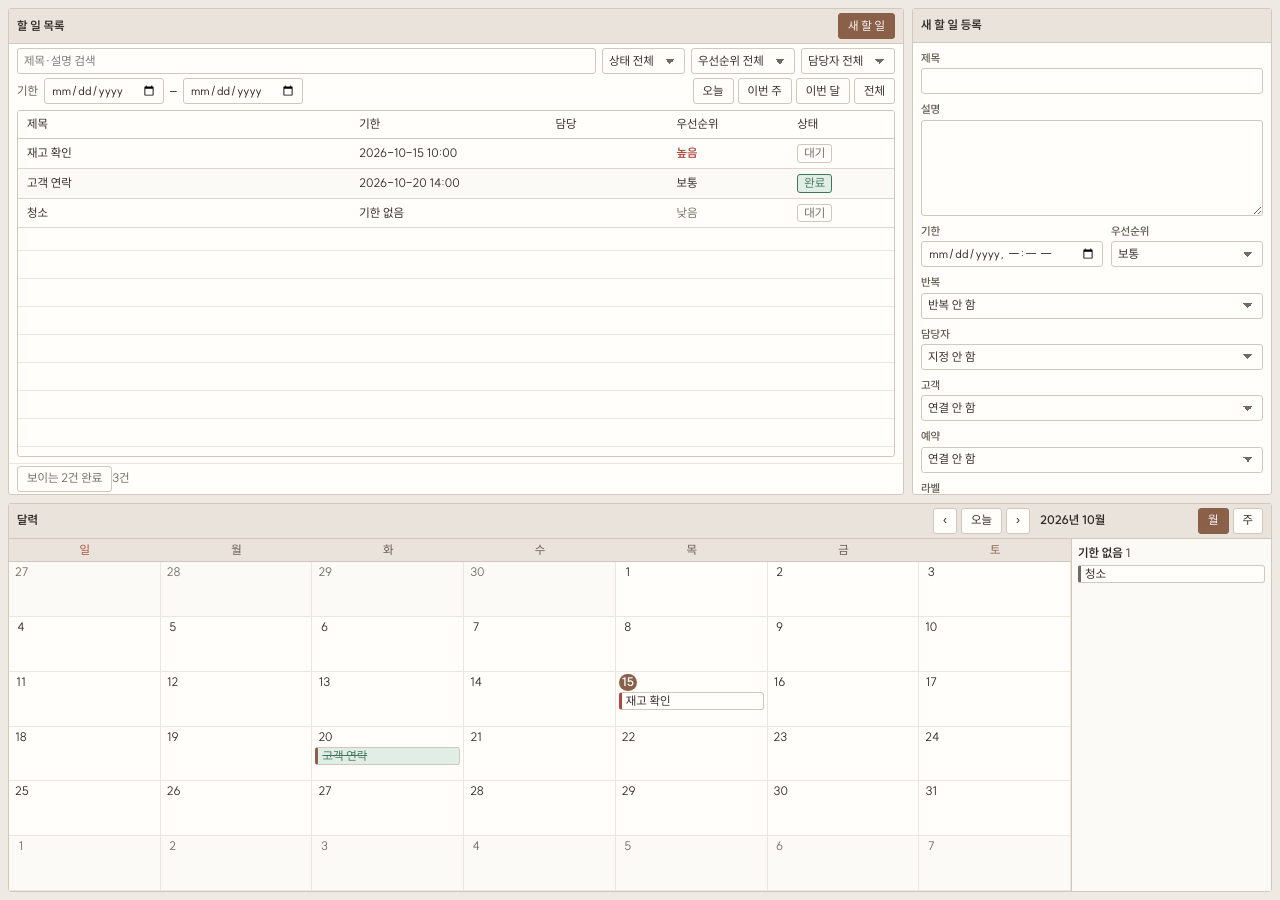
it: TaskPage 목록과 필터 › 기한 날짜·기간·빠른 버튼으로 거른다
This screenshot has width=1280, height=900.
Expected: the text "재고 확인" is shown, [18, 139, 350, 169]
Type "2026-10-20" into the date field named "시작일". click: (104, 91)
box: [44, 78, 164, 104]
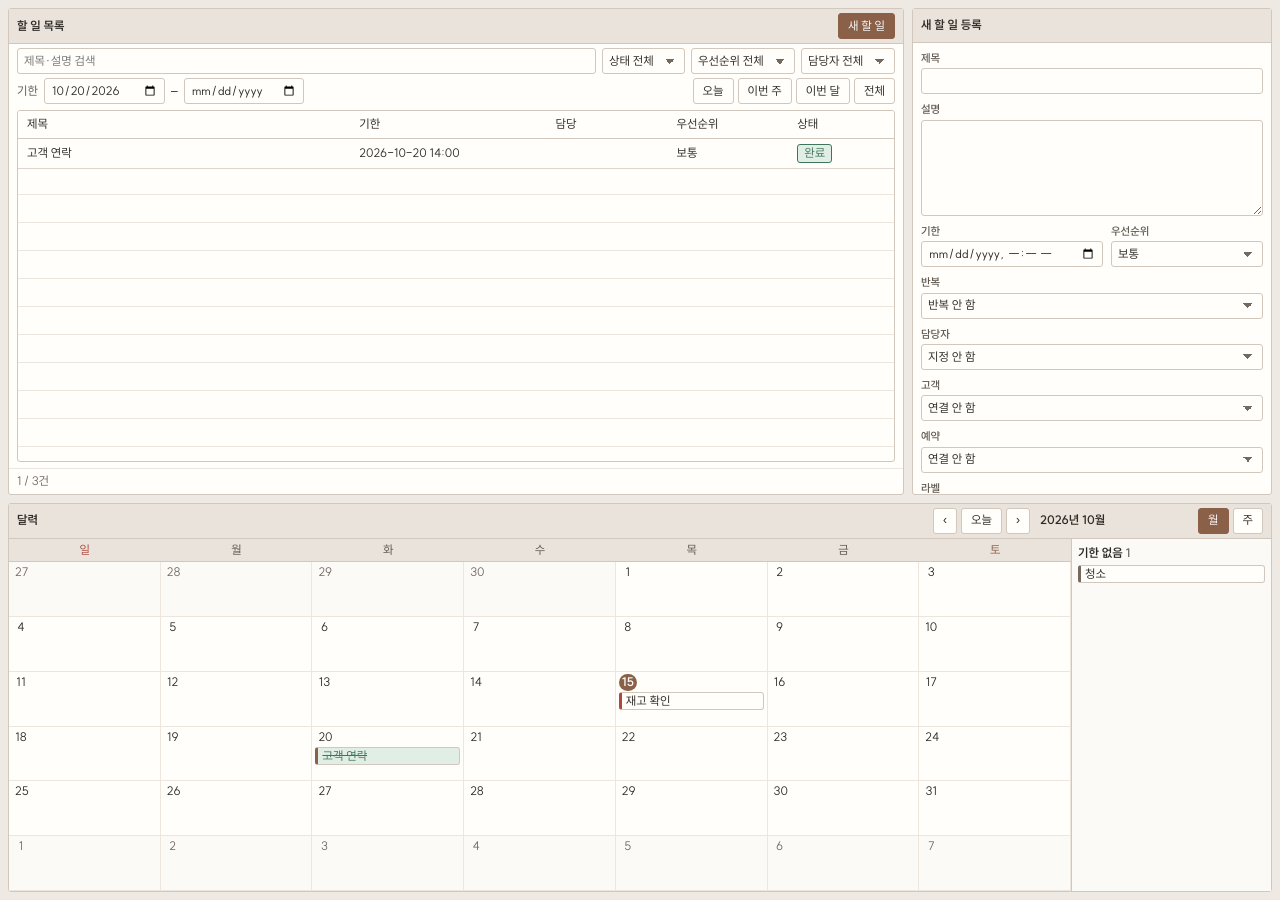
Type "2026-10-20" into the date field named "종료일". click: (244, 91)
box: [184, 78, 304, 104]
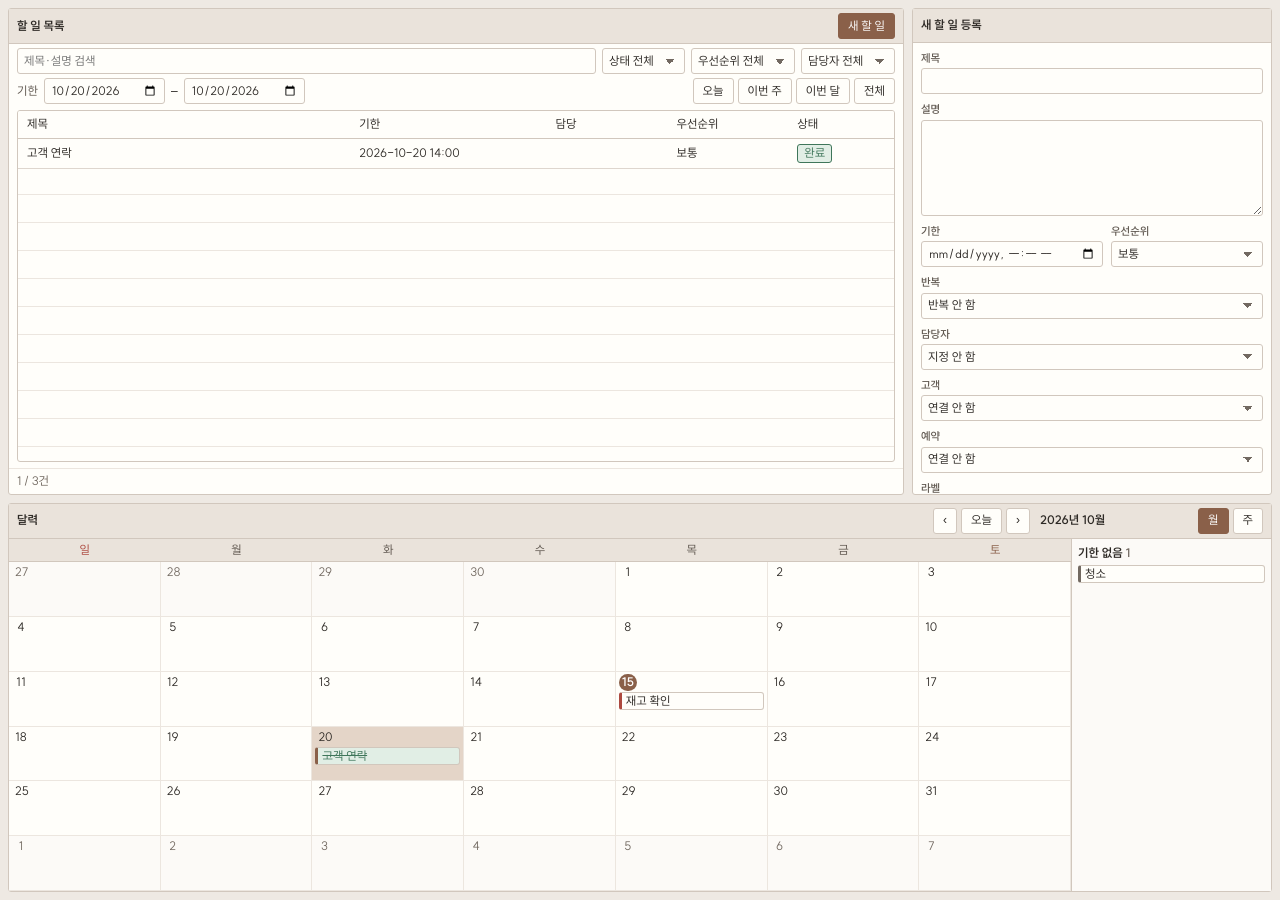
Expected: the text "고객 연락" is shown, [18, 139, 350, 169]
Click the 1st button "오늘". click: (713, 91)
box: [693, 78, 734, 104]
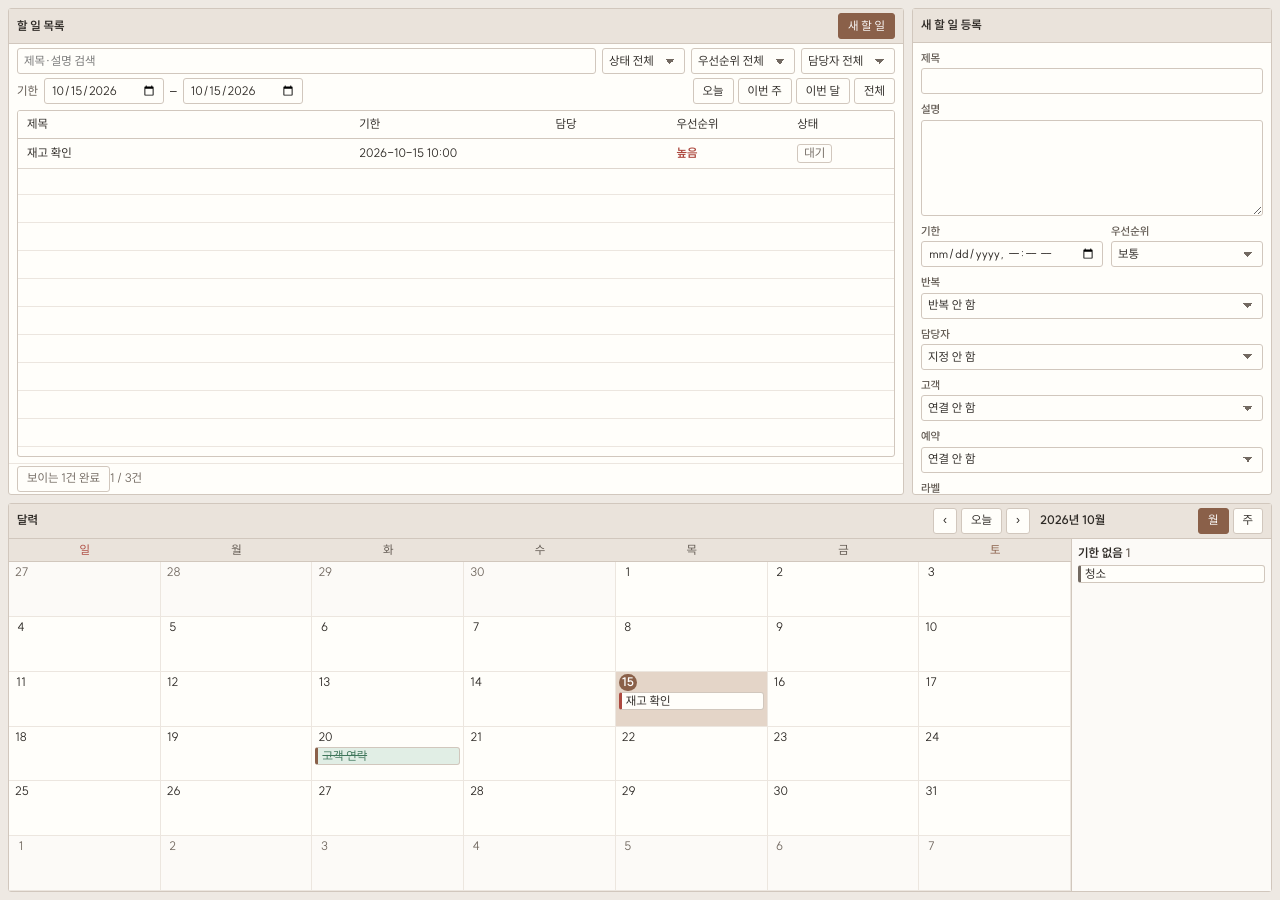
Expected: the date field named "시작일" holds "2026-10-15", [44, 78, 164, 104]
Expected: the text "재고 확인" is shown, [18, 139, 350, 169]
Click the button "이번 달". click: (823, 91)
box: [796, 78, 850, 104]
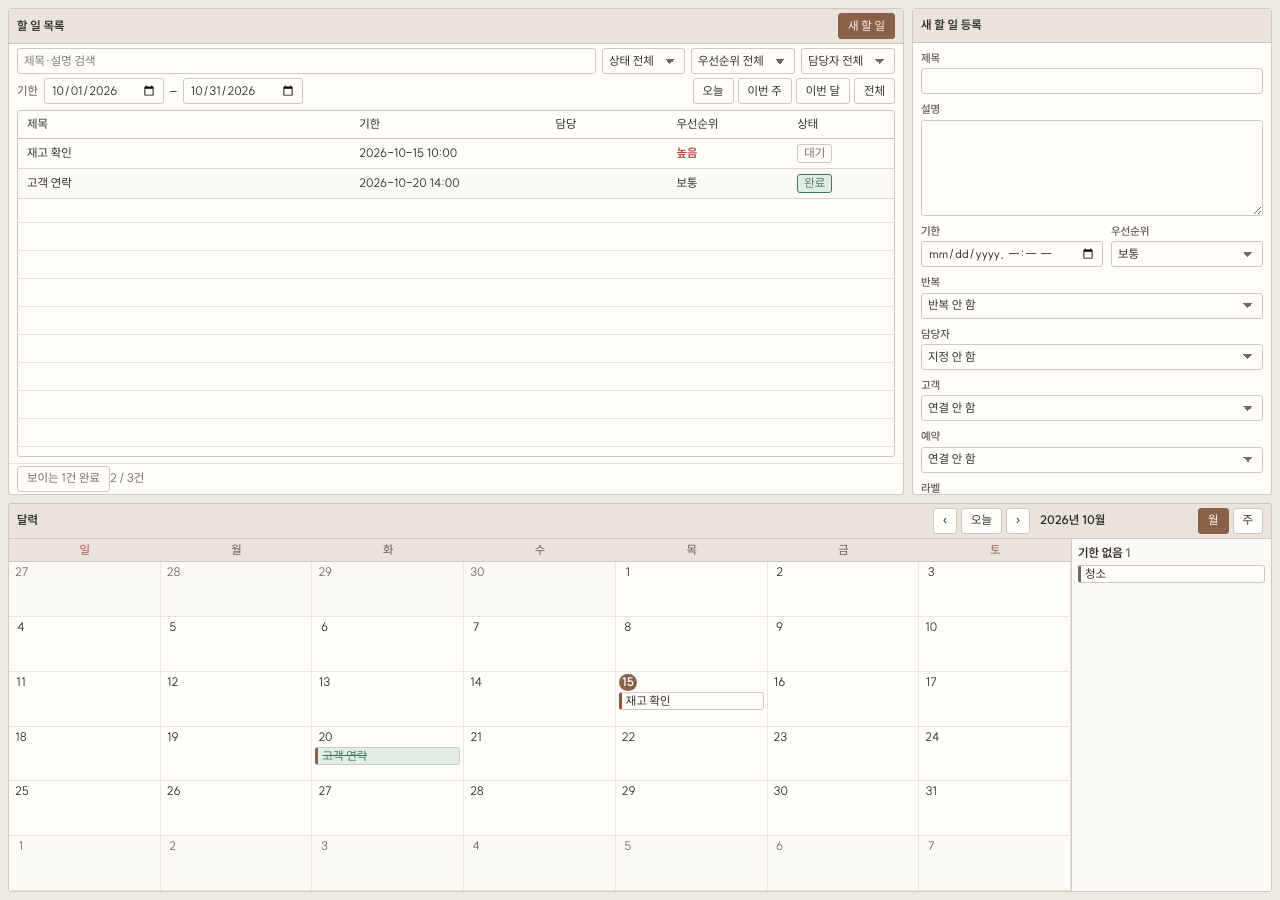
Expected: the text "고객 연락" is shown, [18, 169, 350, 199]
Click the button "전체". click: (874, 91)
box: [854, 78, 895, 104]
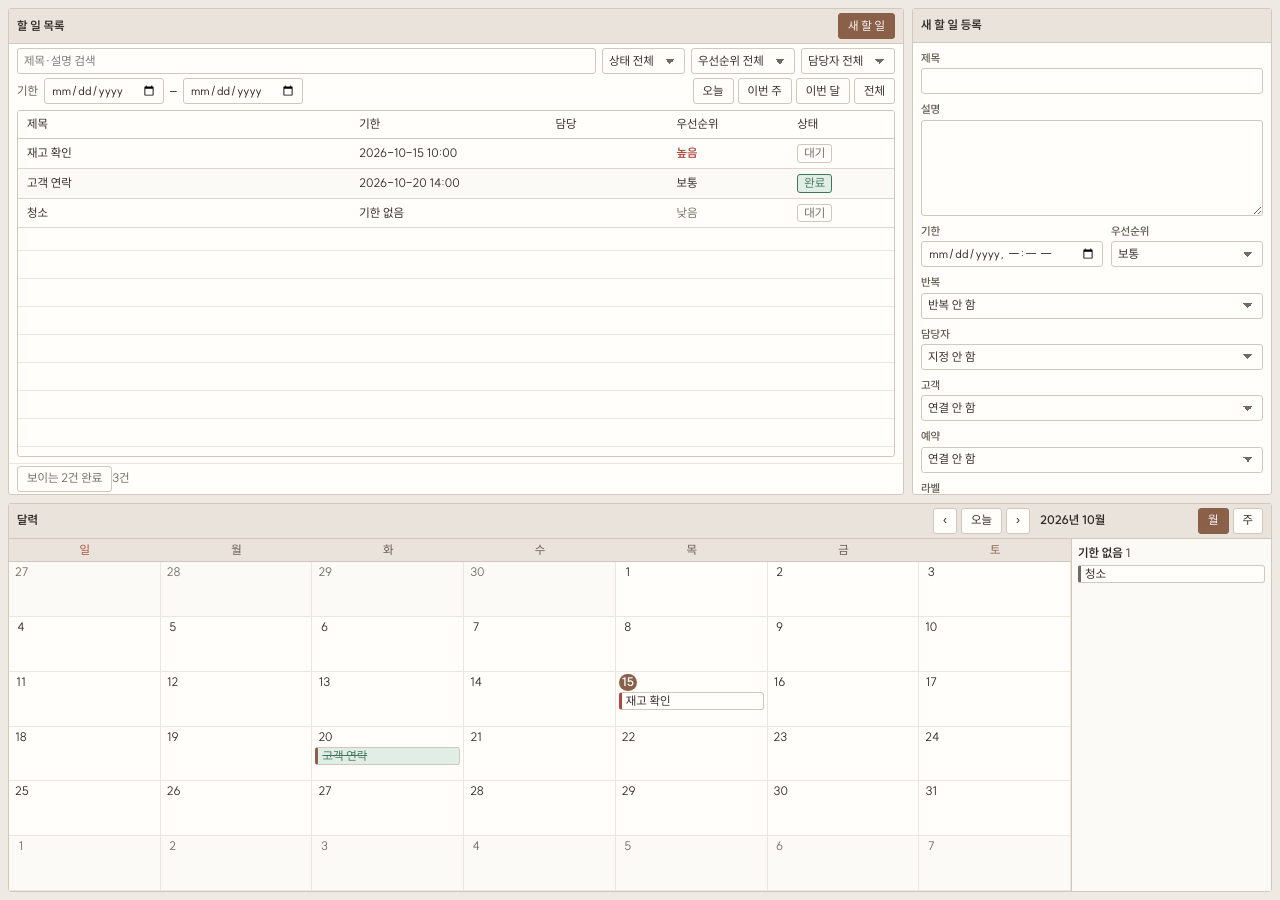
Expected: the text "청소" is shown, [18, 199, 350, 228]
